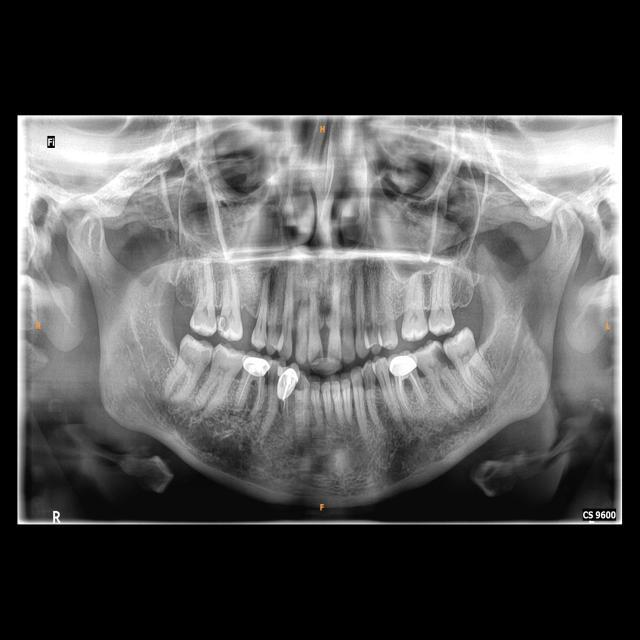dentin-curugu: (429, 346, 446, 364)
kanal-tedavisi: (396, 376, 424, 406), (240, 376, 264, 408), (281, 401, 291, 418)
kaplama: (277, 368, 298, 399), (242, 356, 270, 378), (389, 354, 416, 375)
